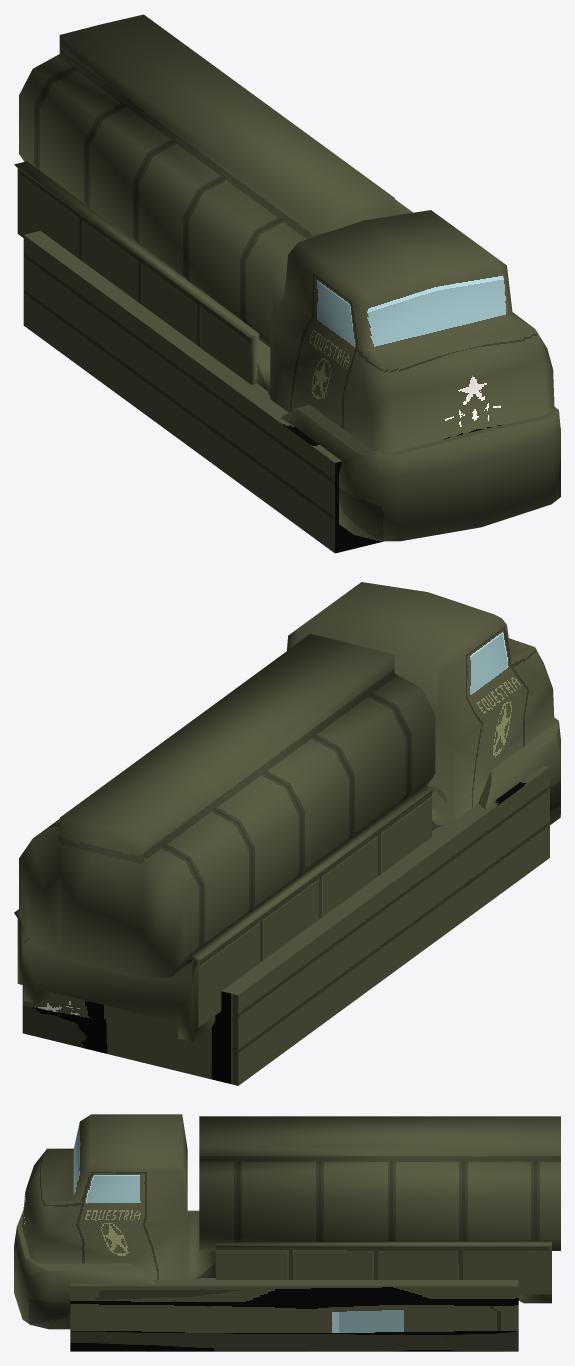
Rendered from truck_collision.glb.
3 renders of one model, top to bottom at view 1: azimuth 30°, elevation 25°; view 2: azimuth 150°, elevation 25°; view 3: azimuth 270°, elevation 25°, orthographic. The views are drawn at different scales.
Visible parts, largest first — view 1: Cube; view 2: Cube; view 3: Cube.
Boxes of the visible parts, x1,y1,x2,y2 form: Cube: (14, 14, 560, 553); Cube: (14, 582, 560, 1085); Cube: (14, 1114, 560, 1351).
Bounding box in the file's own units: 11.09 × 12.46 × 33.83.
Materials: 1 (1 with a texture image).
